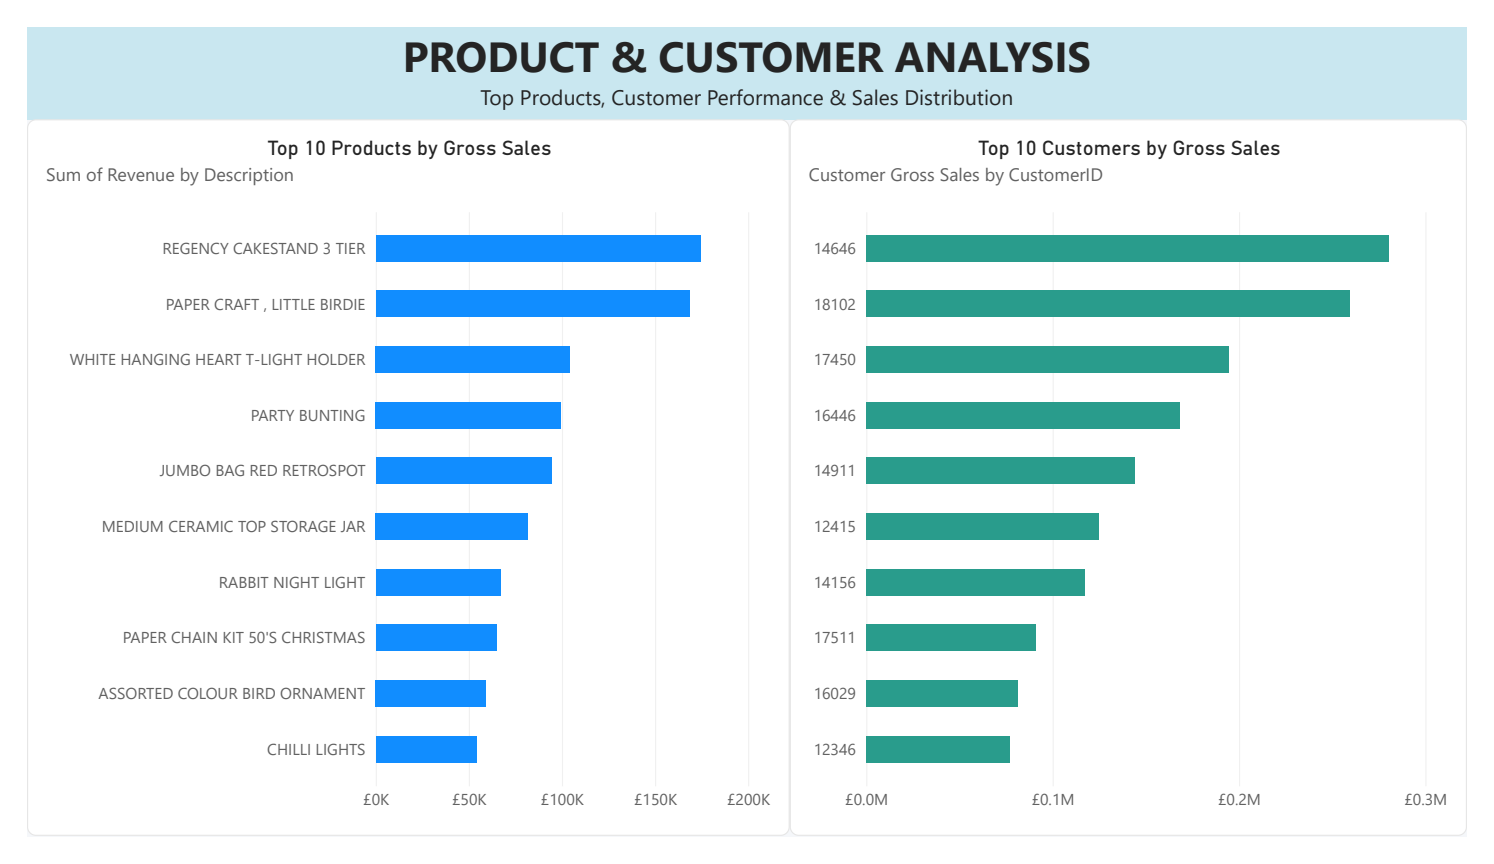

The dashboard page shown, as its layout file describes it:
{"tool":"powerbi","page":{"name":"02 - Product & Customer","canvas":[1280,720],"ordinal":1},"visuals":[{"type":"textbox","box":[10,570,342,150],"z":5000},{"type":"textbox","box":[0,0,1280,81.7],"z":6000},{"type":"clusteredBarChart","title":"Top 10 Products by Gross Sales","fields":{"Category":["top_10_products.Description"],"Y":["Sum(top_10_products.Revenue)"]},"box":[0,82,678,637],"z":6001},{"type":"clusteredBarChart","title":"\tTop 10 Customers by Gross Sales","fields":{"Category":["sales_clean.CustomerID"],"Y":["sales_clean.Customer Gross Sales"]},"box":[678,82,602,637],"z":6002}]}

Visuals, with their boxes in screenshot pixels (x1, y1, x2, y2), scaled from the page's 1280x720 canvas onto the 1494x864 screenshot:
textbox: <box>12,684,411,863</box>
textbox: <box>0,0,1493,98</box>
"Top 10 Products by Gross Sales" clusteredBarChart: <box>0,98,791,863</box>
"	Top 10 Customers by Gross Sales" clusteredBarChart: <box>791,98,1493,863</box>
